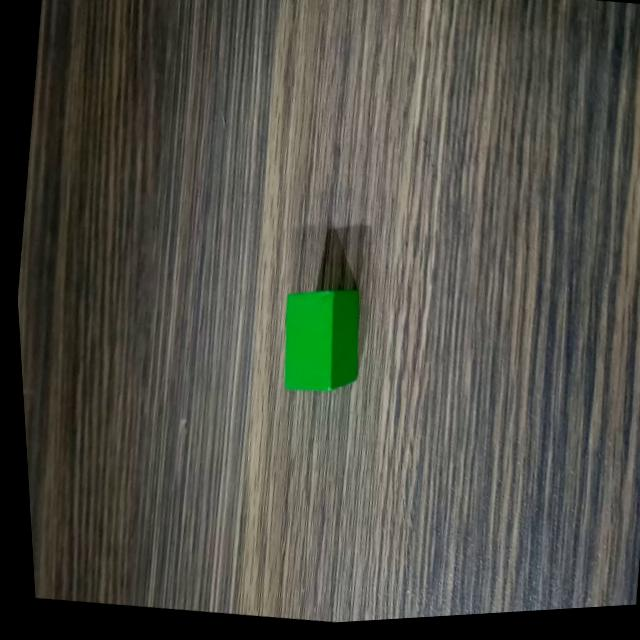cube: (262, 278, 371, 407)
